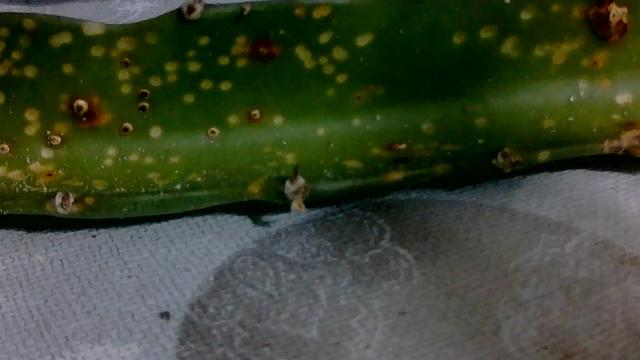stemcanker: (2, 2, 640, 215)
